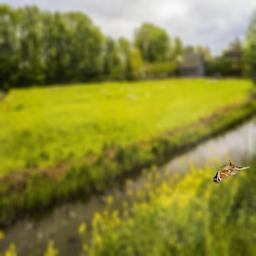Sparrow: (211, 159, 251, 185)
